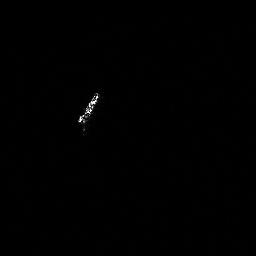ship: (76, 87, 102, 140)
